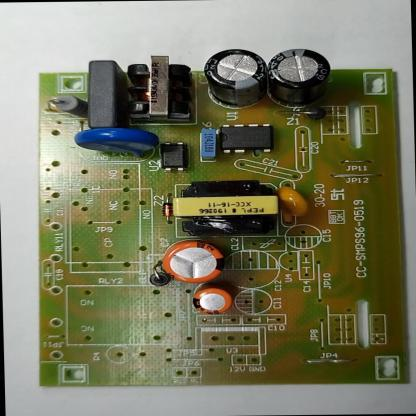Cap1: (149, 238, 233, 285)
Cap2: (184, 282, 237, 318)
Cap3: (196, 46, 273, 112)
Cap4: (260, 45, 342, 113)
MOSFET: (206, 119, 286, 158)
Mov: (68, 124, 164, 164)
Resistor: (50, 90, 92, 117)
Transformer: (167, 178, 282, 240), (119, 52, 194, 126)
